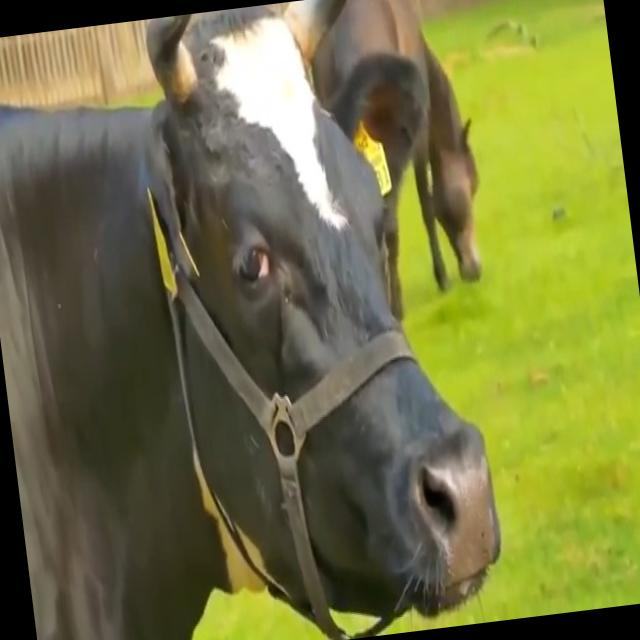cow: (0, 0, 500, 640)
